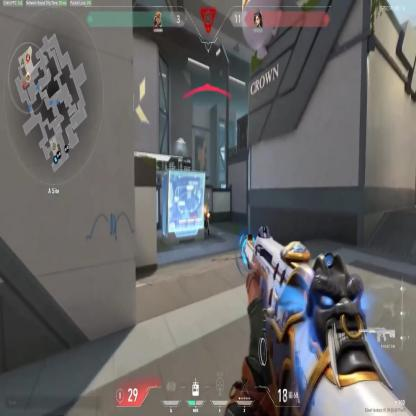enemy: (204, 206, 209, 239)
enemy_head: (205, 204, 208, 210)
